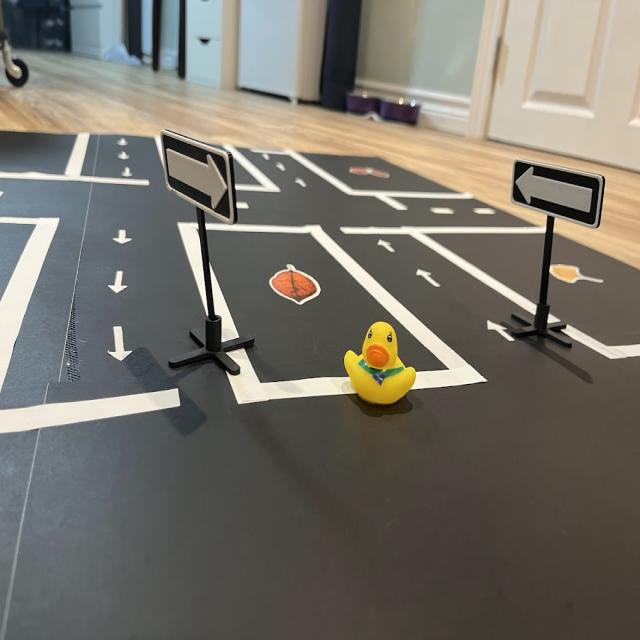duck_regular: (346, 323, 419, 410)
road_oneway: (105, 322, 136, 366), (486, 314, 519, 346), (104, 265, 132, 300), (415, 263, 444, 288), (111, 225, 135, 247), (376, 237, 399, 258), (294, 174, 309, 194)
sign_oneway_left: (512, 157, 606, 232)
sign_oneway_right: (161, 131, 235, 224)
